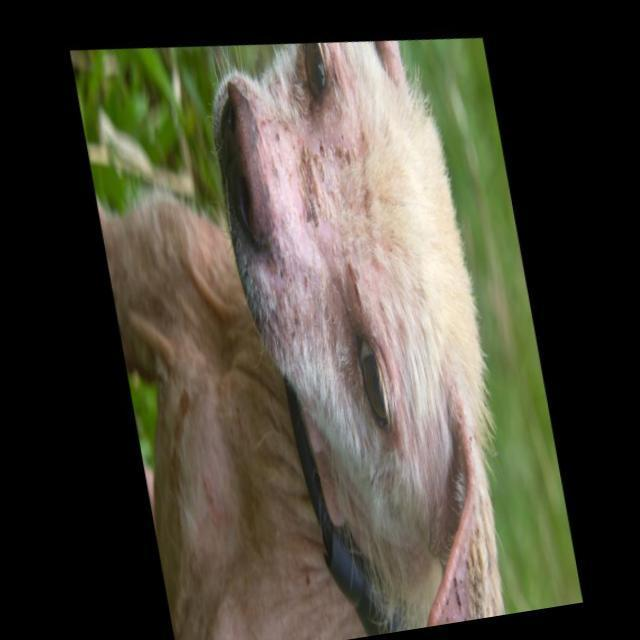mange: (236, 91, 467, 394)
